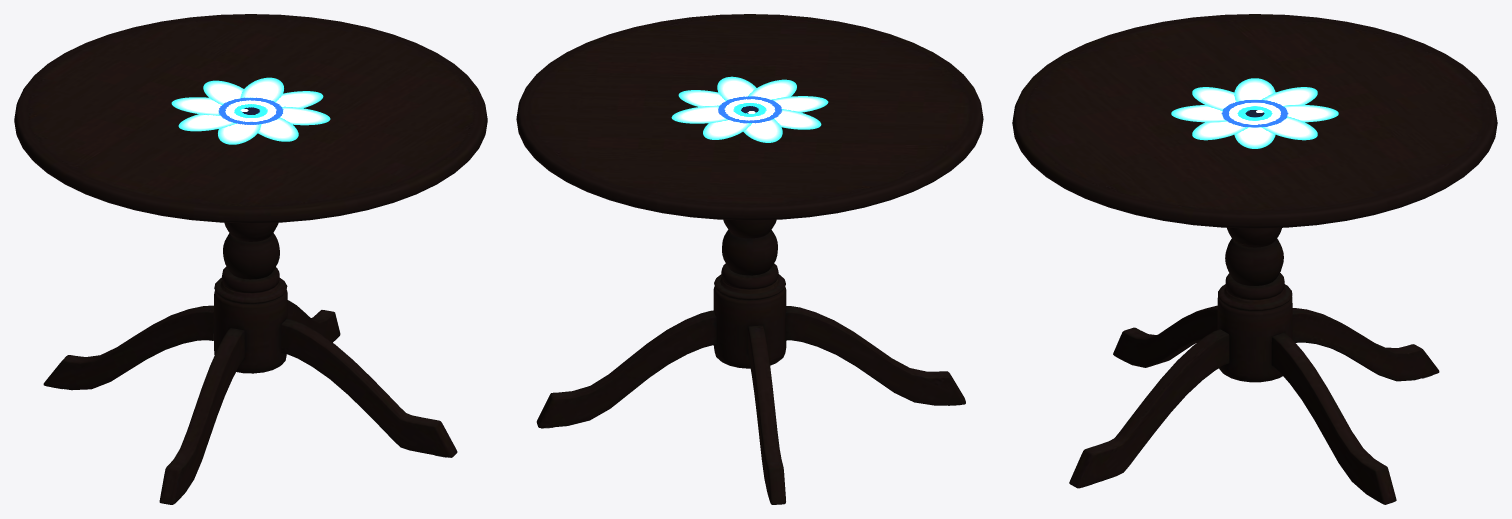
The model's file is nyb_cocktail_table.glb.
3 renders of one model, left to right at view 1: azimuth 30°, elevation 25°; view 2: azimuth 150°, elevation 25°; view 3: azimuth 270°, elevation 25°, orthographic. The views are drawn at different scales.
Visible parts, largest first — view 1: round_wooden_table_01, stk_eyeflower_cyan.png; view 2: round_wooden_table_01, stk_eyeflower_cyan.png; view 3: round_wooden_table_01, stk_eyeflower_cyan.png.
Boxes of the visible parts, bbox=[...] form: round_wooden_table_01: bbox=[14, 14, 487, 504]; stk_eyeflower_cyan.png: bbox=[171, 77, 330, 144]; round_wooden_table_01: bbox=[516, 14, 983, 504]; stk_eyeflower_cyan.png: bbox=[671, 76, 828, 142]; round_wooden_table_01: bbox=[1012, 14, 1497, 504]; stk_eyeflower_cyan.png: bbox=[1171, 78, 1338, 148].
Size of the model in its own units: 1.4 by 1.01 by 1.4.
2 materials, 2 textured.
